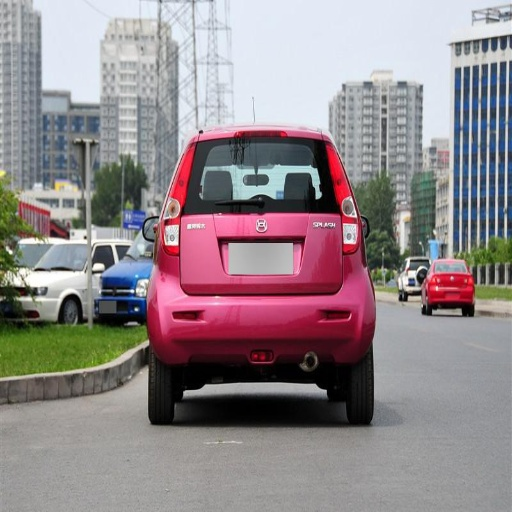back_bumper: (148, 256, 376, 365)
trunk: (163, 192, 346, 296)
